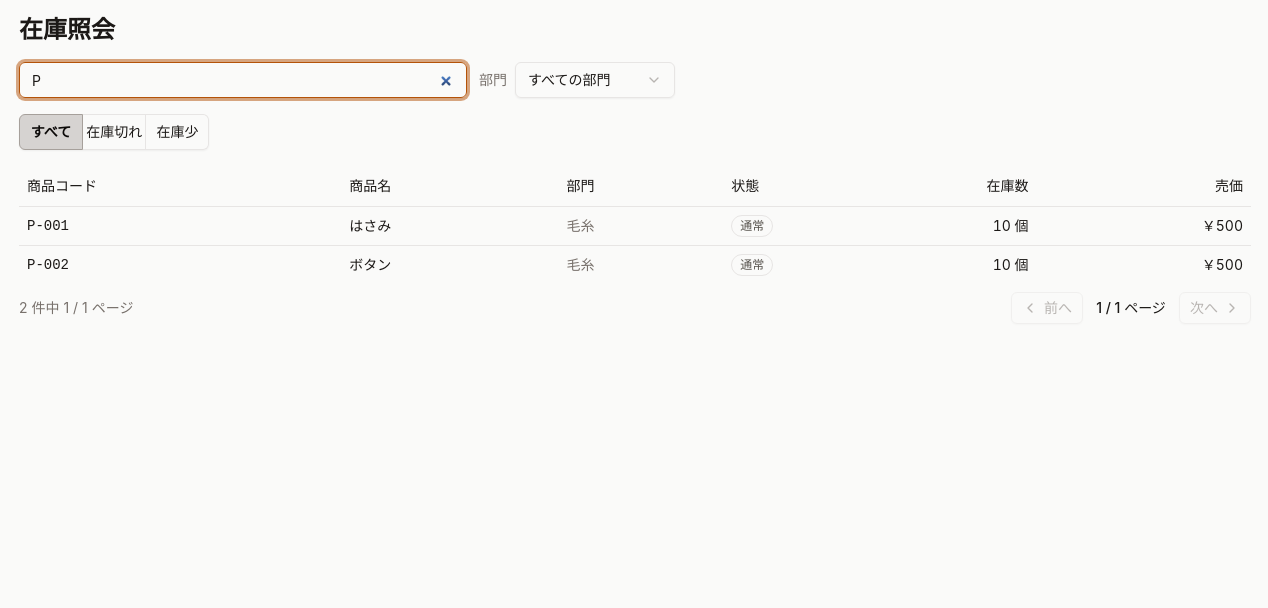
Test case: StockInquiryPage (REQ-301 自動展開) › REQ-301: 行クリックで selected が更新され選択行直下に展開する（統合経路、C-P2-3）
The width and height of the screenshot is (1268, 608).
Expected: the text "最終入庫日" is not shown
// ボタン行（P-002）をクリック → selected 更新 → 直下にインライン展開
Step 1. Click the text "ボタン" → x=370, y=264, box 341,245 -> 558,284
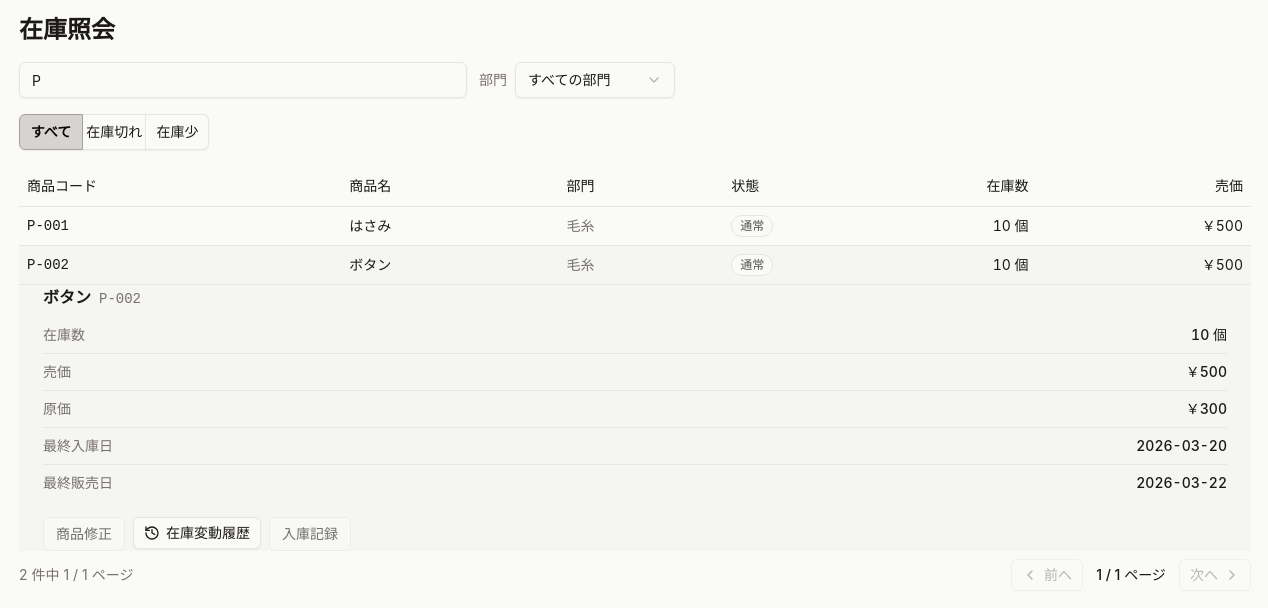
Expected: the text "最終入庫日" is shown, 43,436 -> 113,456
